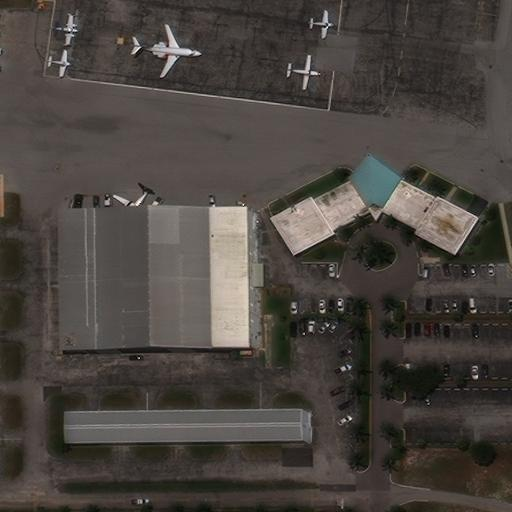Medium Civil Transport: (132, 23, 200, 77), (113, 188, 151, 219)
Small Civil Transport: (286, 55, 321, 89), (51, 14, 79, 45), (307, 10, 334, 38), (47, 51, 72, 78)
